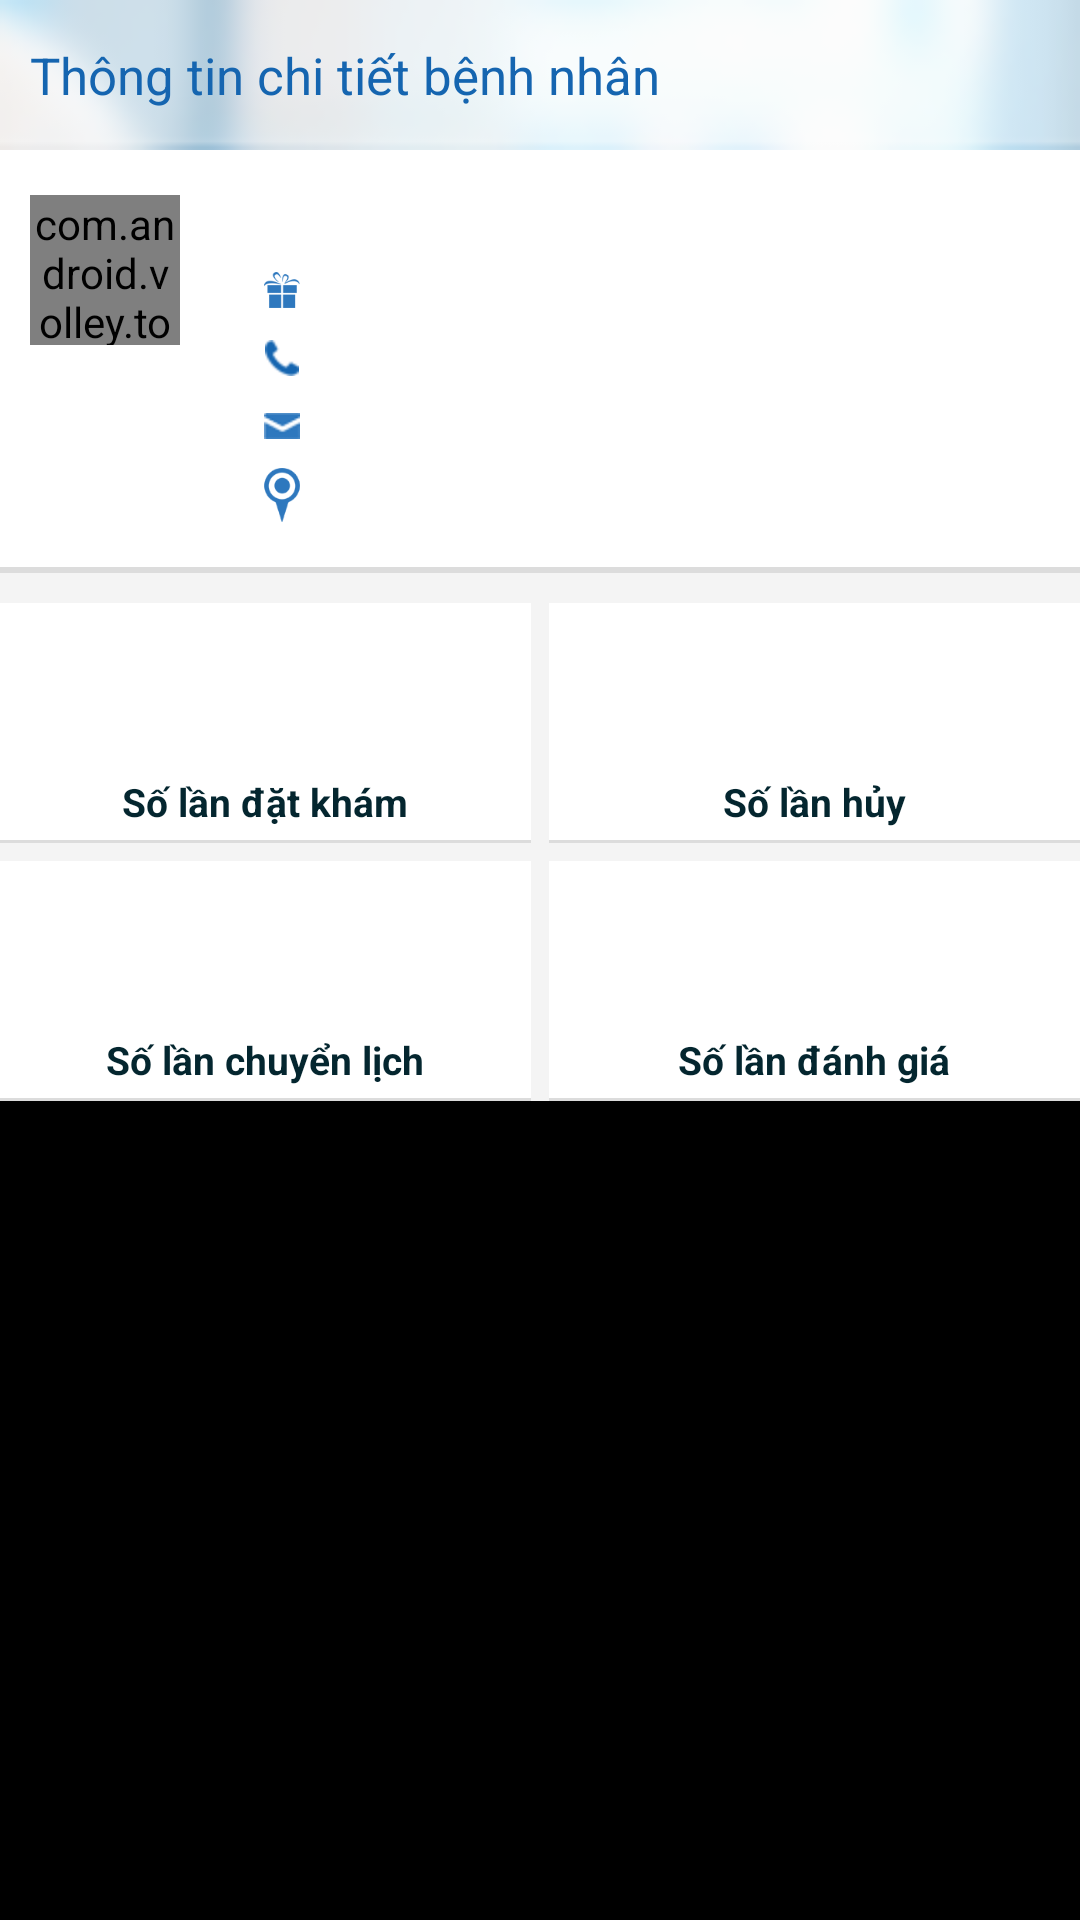

Locate icon controls on the screen. Image size 1080 x 1920, boxes as rect(x1, y1, x2, y2).
birthday: rect(264, 272, 300, 308)
email: rect(264, 413, 300, 439)
location: rect(264, 468, 300, 522)
phone: rect(265, 340, 299, 376)
